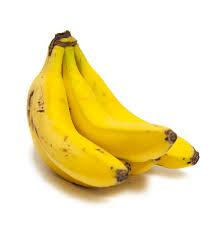non-mango: (25, 29, 199, 188)
